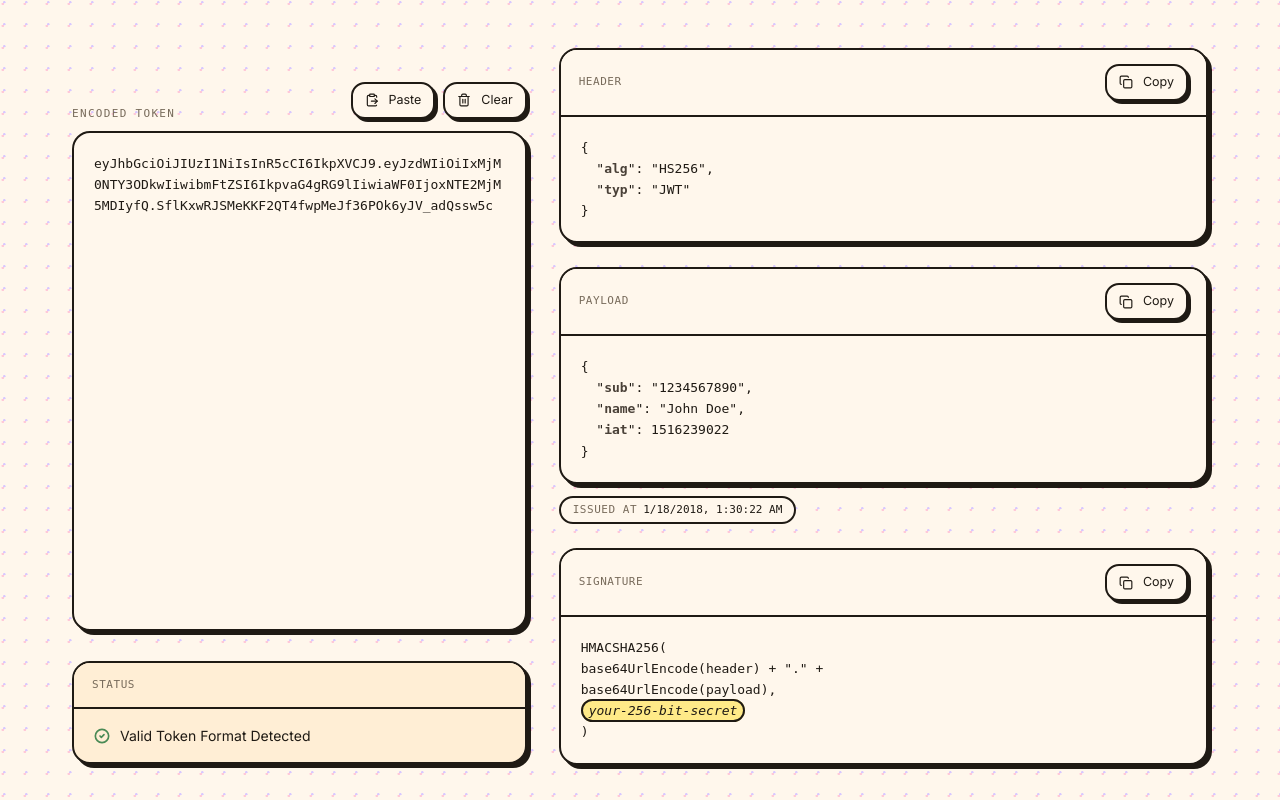
JwtDecoderRoute › shows error for invalid base64 token
The width and height of the screenshot is (1280, 800).
Replace the text in the text box with placeholder "Paste your JWT here…" with "not.valid-base64!.token". click: (299, 381)
box: [72, 131, 527, 631]
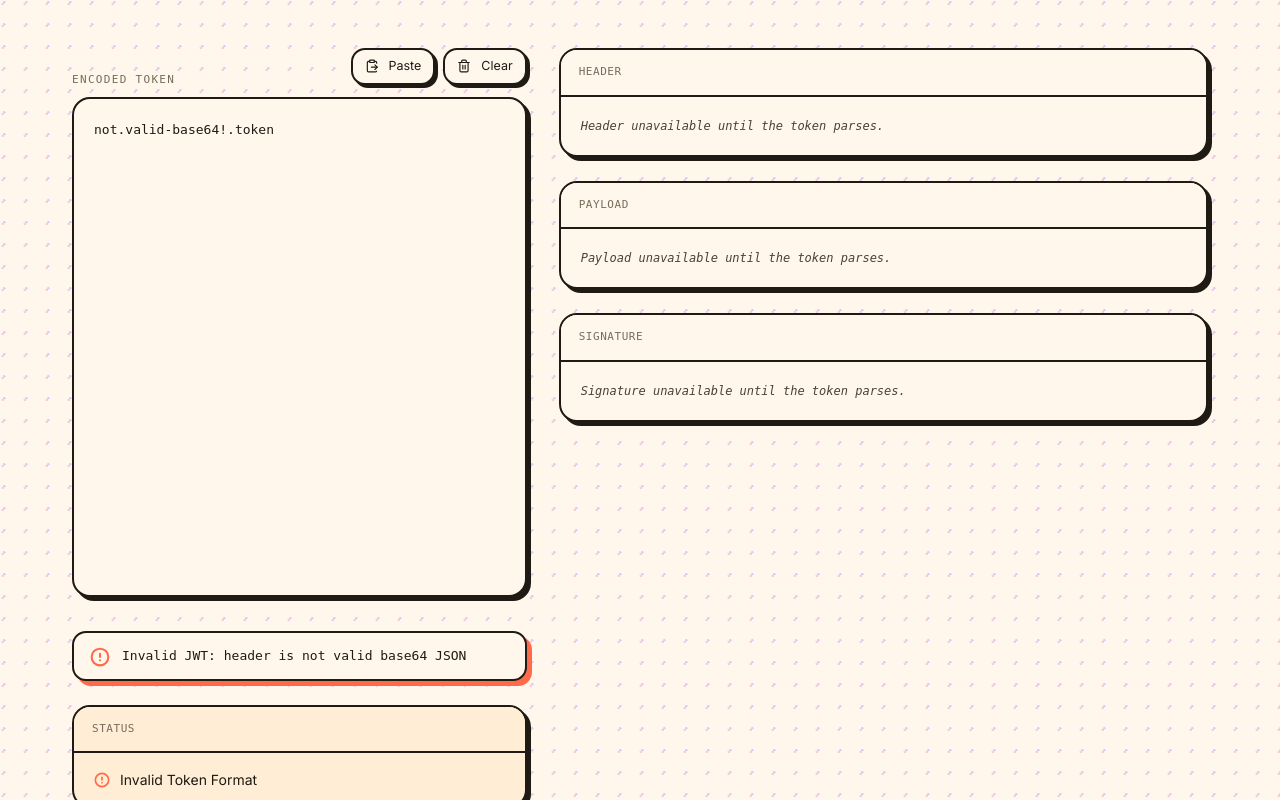
Expected: the text "Invalid JWT: header is not valid base64 JSON" is shown, [122, 645, 509, 666]
